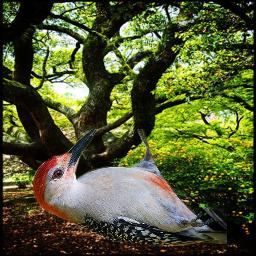Woodpecker: (33, 129, 227, 246)
